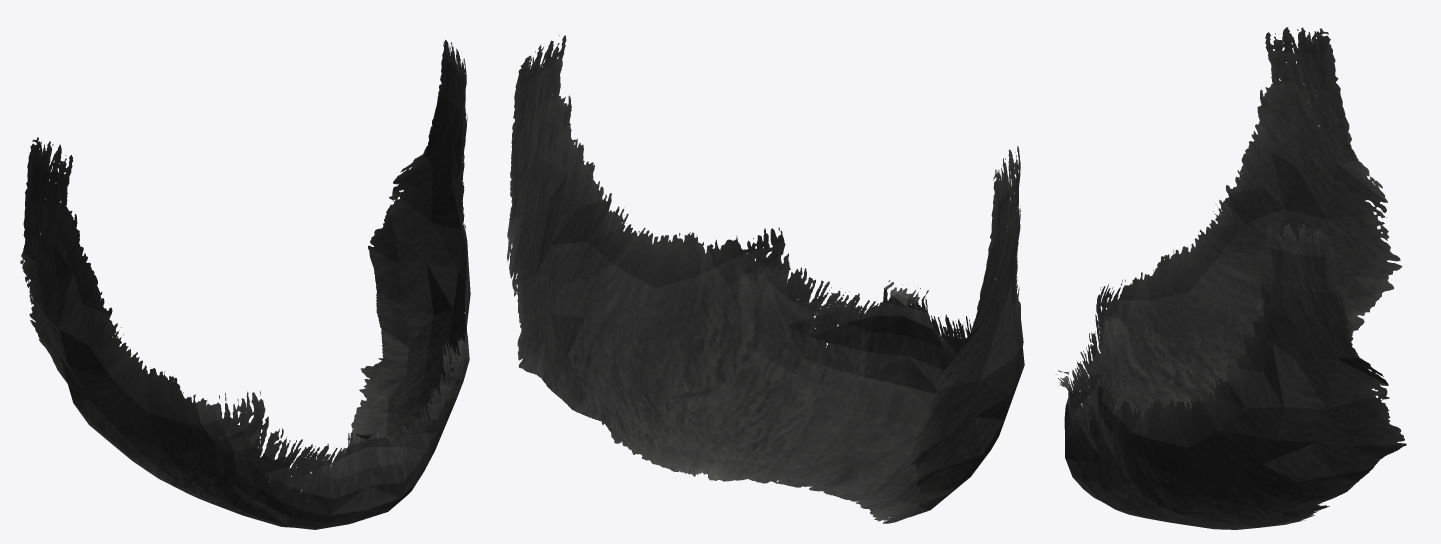
Rendered from mhw_grinsegold_full_beard.glb.
3 views of the same model, side by side, from view 1: azimuth 30°, elevation 25°; view 2: azimuth 150°, elevation 25°; view 3: azimuth 270°, elevation 25° (orthographic). The views are drawn at different scales.
Parts seen in each view (by area): view 1: mhw_grinsegold_full_beard; view 2: mhw_grinsegold_full_beard; view 3: mhw_grinsegold_full_beard.
Boxes of the visible parts, x1,y1,x2,y2 form: mhw_grinsegold_full_beard: (20,39,470,529); mhw_grinsegold_full_beard: (507,35,1024,523); mhw_grinsegold_full_beard: (1056,27,1406,529).
Bounding box in the file's own units: 0.1463 × 0.1299 × 0.113.
1 material, 1 textured.
